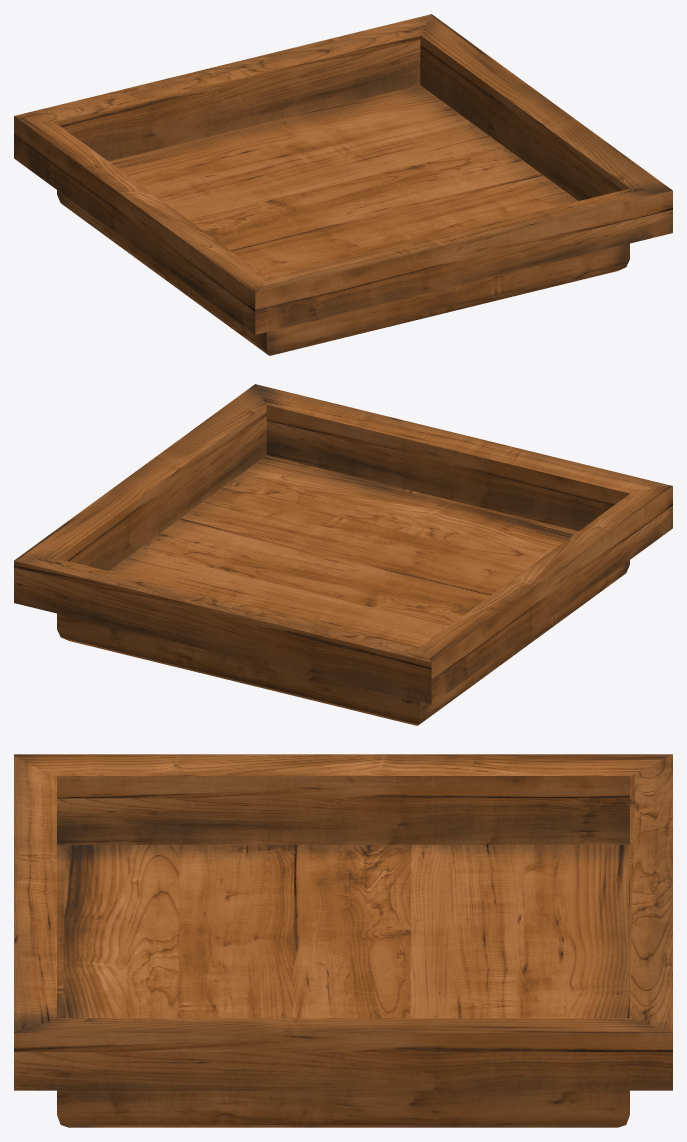
File: sandBoxEmpty.fbx
3 renders of one model, top to bottom at view 1: azimuth 30°, elevation 25°; view 2: azimuth 150°, elevation 25°; view 3: azimuth 270°, elevation 25°, orthographic. The views are drawn at different scales.
Visible parts, largest first — view 1: pCube1; view 2: pCube1; view 3: pCube1.
Boxes of the visible parts, x1,y1,x2,y2 form: pCube1: (14,14,672,355); pCube1: (14,384,672,725); pCube1: (14,754,672,1127).
Bounding box in the file's own units: 23.91 × 4.8 × 23.91.
